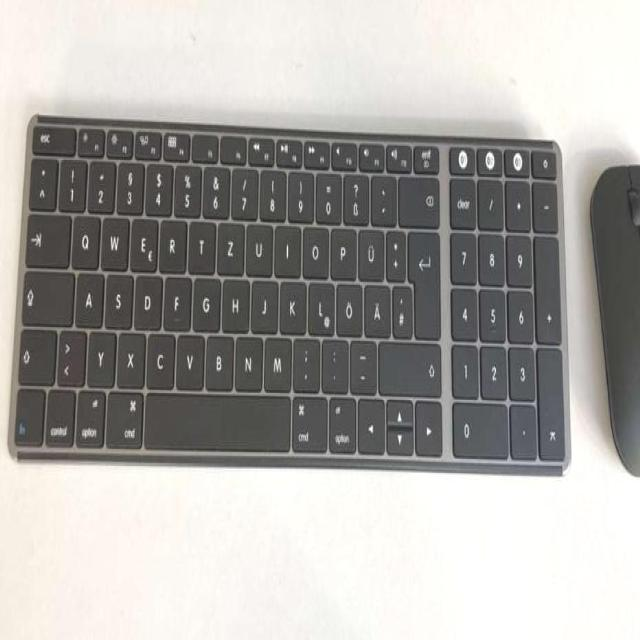0: (314, 166, 340, 219)
1: (56, 152, 85, 206)
2: (85, 154, 113, 208)
3: (114, 156, 142, 209)
4: (144, 156, 171, 210)
5: (172, 159, 199, 212)
6: (200, 160, 228, 213)
7: (229, 161, 256, 215)
8: (258, 163, 285, 216)
9: (286, 166, 313, 218)
a: (73, 265, 101, 323)
accent: (369, 169, 394, 221)
ae: (362, 278, 388, 333)
alt-left: (75, 384, 105, 445)
altgr-right: (326, 390, 354, 451)
b: (203, 329, 232, 385)
c: (144, 326, 173, 385)
caret: (27, 151, 55, 205)
comma: (290, 332, 318, 388)
d: (131, 268, 160, 326)
del: (396, 170, 438, 223)
e: (127, 211, 156, 267)
enter: (406, 223, 438, 334)
f: (161, 270, 189, 326)
g: (190, 271, 218, 327)
h: (219, 271, 247, 328)
hash: (389, 277, 410, 333)
i: (272, 217, 299, 271)
j: (249, 273, 276, 329)
k: (277, 274, 304, 328)
keyboard: (7, 111, 571, 473)
l: (306, 275, 333, 331)
less: (54, 323, 84, 380)
m: (261, 330, 290, 387)
minus: (347, 334, 374, 389)
n: (232, 330, 261, 386)
o: (299, 220, 327, 274)
oe: (334, 277, 361, 331)
p: (329, 222, 355, 275)
plus: (383, 223, 403, 275)
point: (319, 333, 346, 387)
q: (69, 209, 98, 264)
r: (157, 212, 185, 268)
s: (102, 267, 131, 324)
shift-left: (15, 322, 54, 381)
shift-lock: (20, 264, 71, 320)
shift-right: (377, 334, 440, 392)
space: (142, 387, 291, 452)
ss: (341, 167, 367, 219)
strg-left: (43, 382, 74, 445)
t: (186, 213, 213, 268)
tab: (23, 207, 68, 263)
u: (243, 216, 271, 272)
ue: (356, 222, 382, 276)
v: (173, 327, 203, 385)
w: (99, 209, 127, 265)
x: (115, 326, 143, 383)
y: (85, 324, 114, 382)
z: (215, 215, 243, 269)
